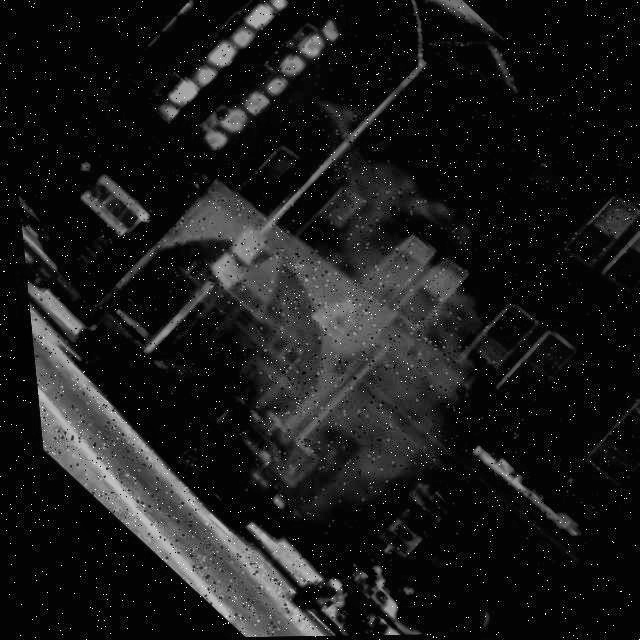Smoke: (94, 103, 594, 572)
